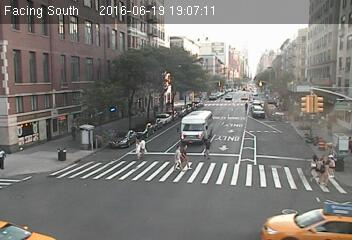neg: (227, 144, 255, 181), (88, 166, 114, 200), (200, 181, 215, 202), (58, 54, 73, 73), (263, 114, 276, 131), (122, 83, 135, 100), (241, 99, 251, 112)
pos: (300, 142, 335, 188), (128, 128, 151, 159), (166, 142, 187, 169), (173, 140, 193, 166), (196, 133, 216, 159), (66, 122, 81, 142)
